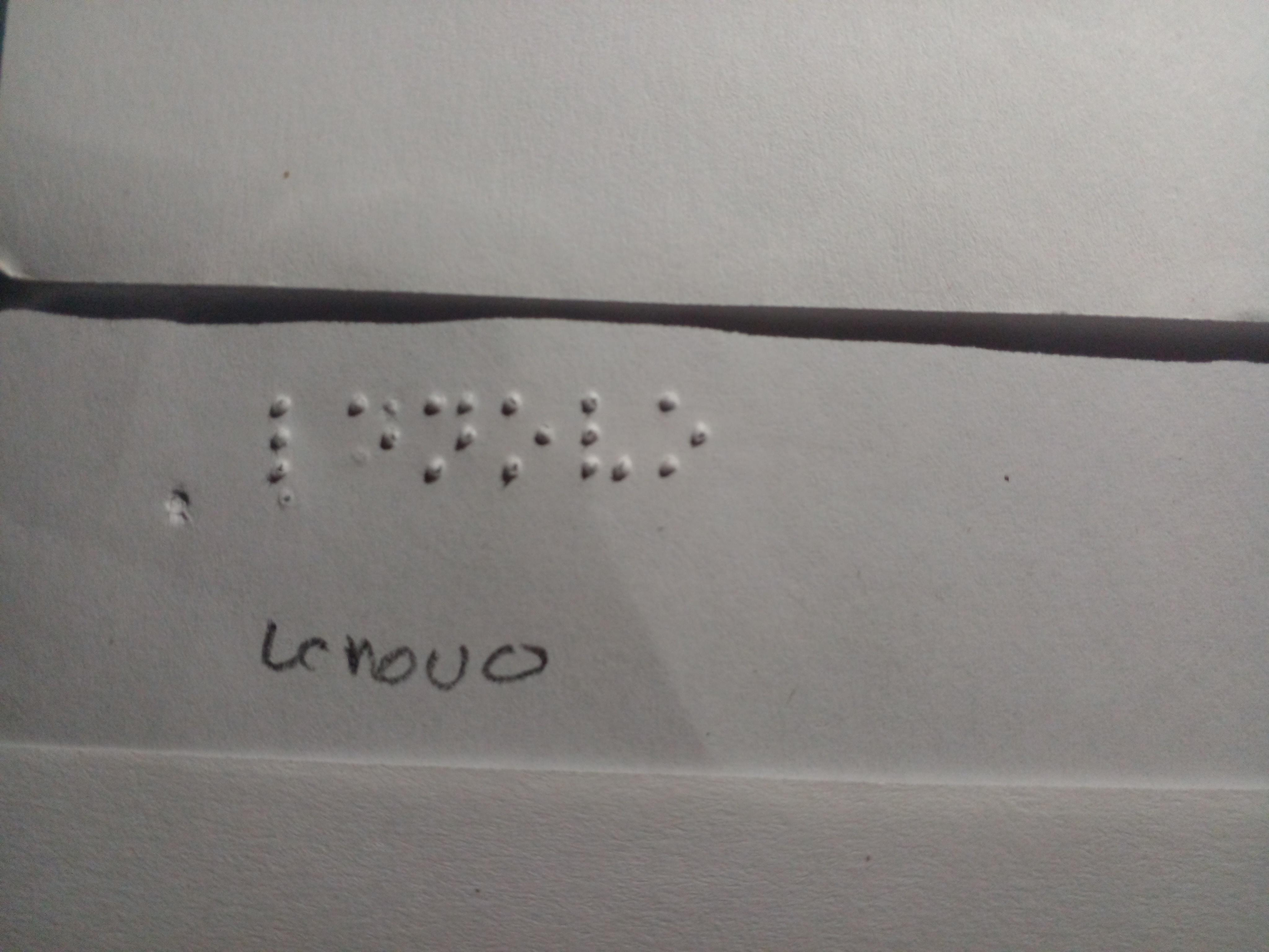e: (338, 387, 417, 463)
l: (242, 370, 321, 516)
n: (421, 386, 476, 488)
o: (643, 394, 722, 480), (491, 386, 558, 482)
v: (565, 387, 641, 483)
